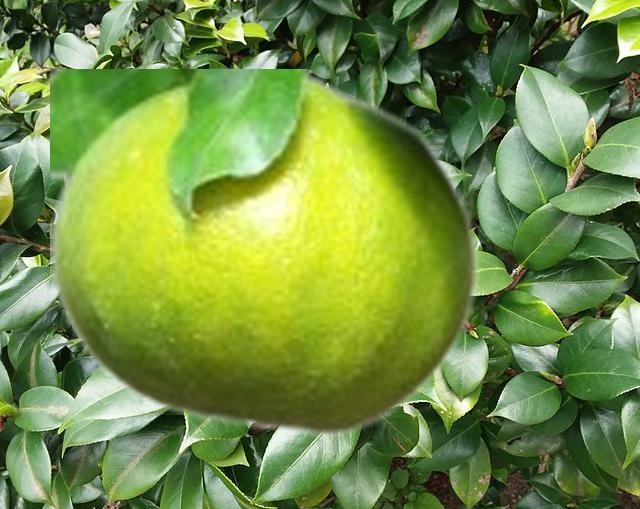dalandan: (50, 69, 480, 438)
